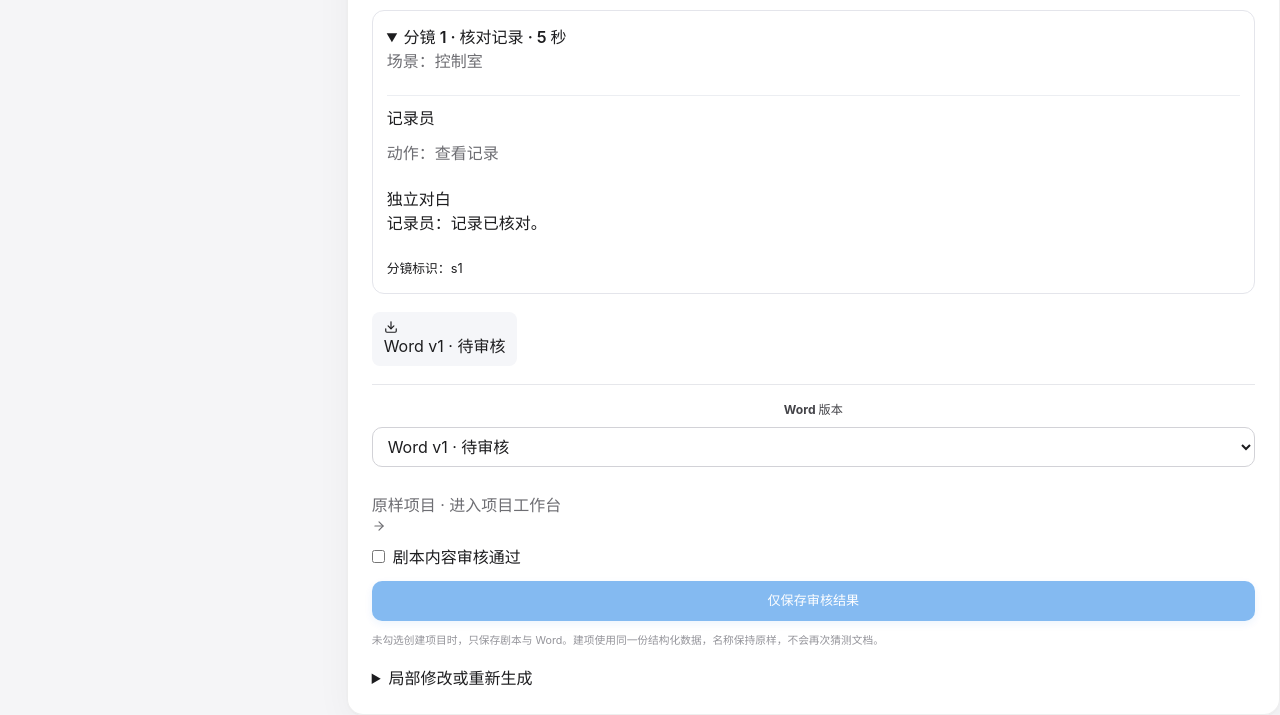
Test: exports a new Word version from saved IR without submitting another model request
(page scrolled)
Click the checkbox labelled "剧本内容审核通过" at (378, 556), box left=372, top=550, right=385, bottom=563
(page scrolled)
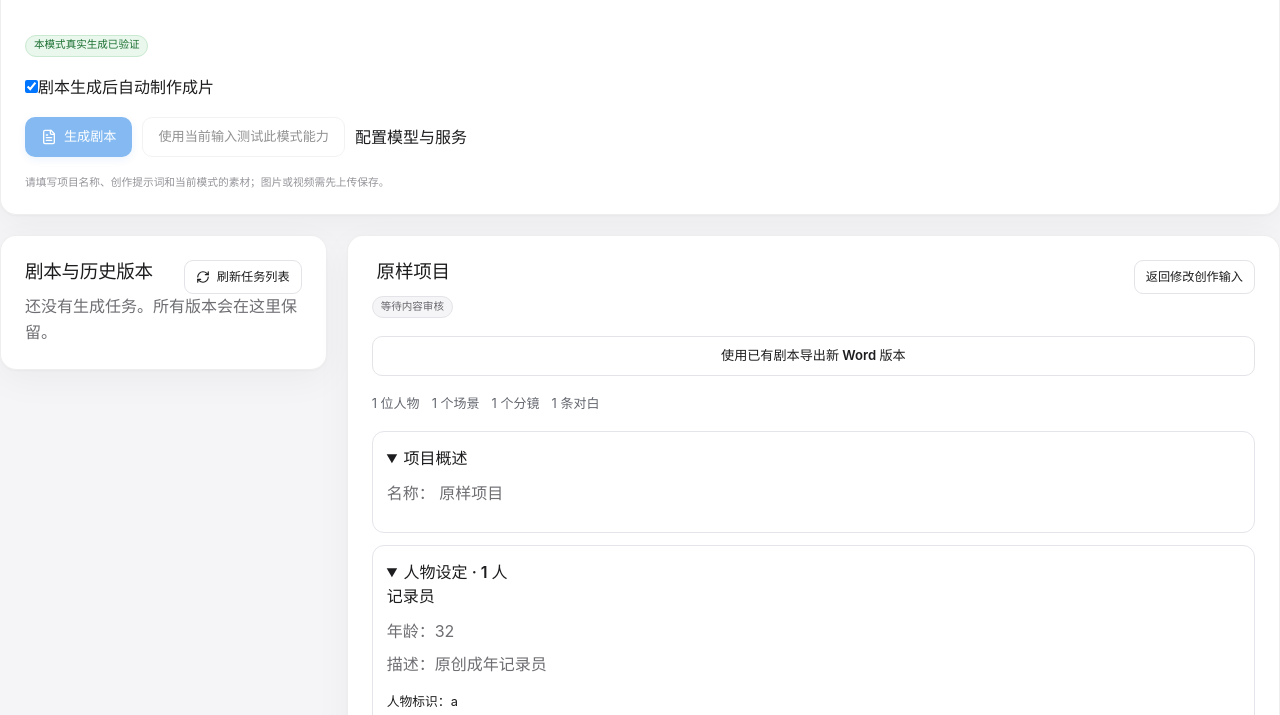
Click the button "使用已有剧本导出新 Word 版本" at (813, 356), box left=372, top=336, right=1255, bottom=376
(page scrolled)
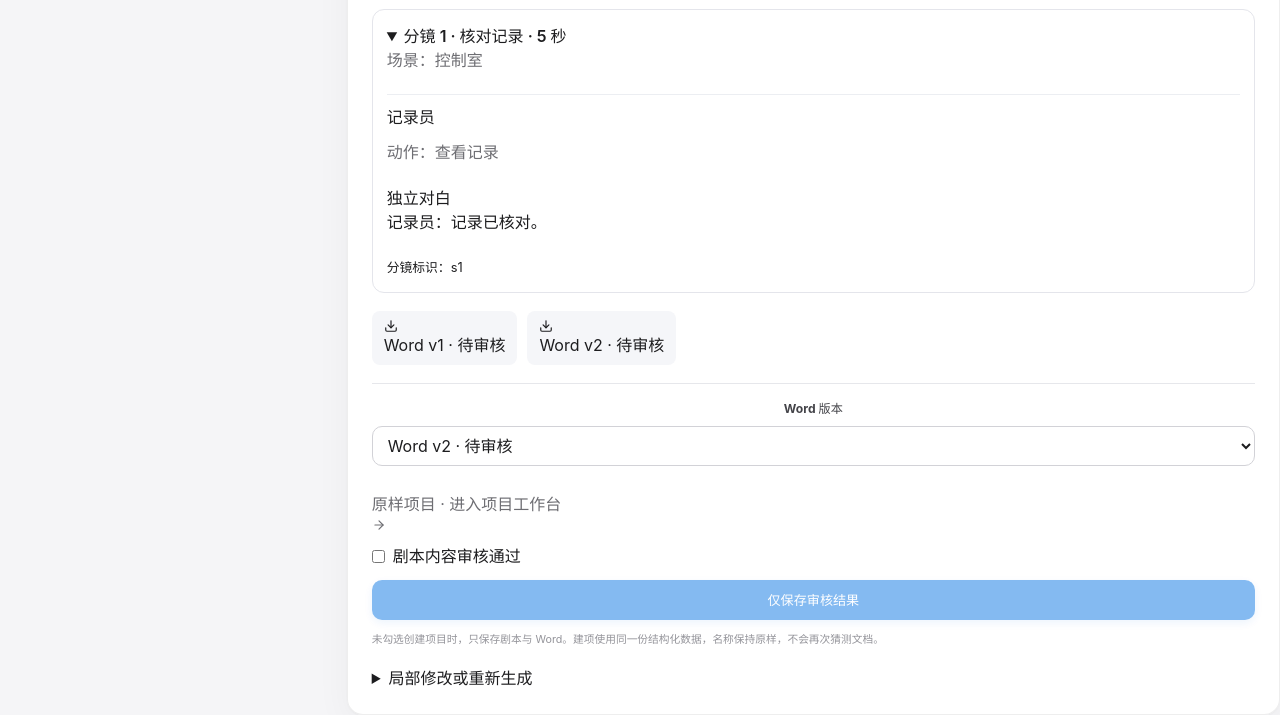
Result: the checkbox labelled "剧本内容审核通过" is not checked at left=372, top=550, right=385, bottom=563
Result: the dropdown labelled "Word 版本" shows "Word v2 · 待审核" at left=372, top=426, right=1255, bottom=466
